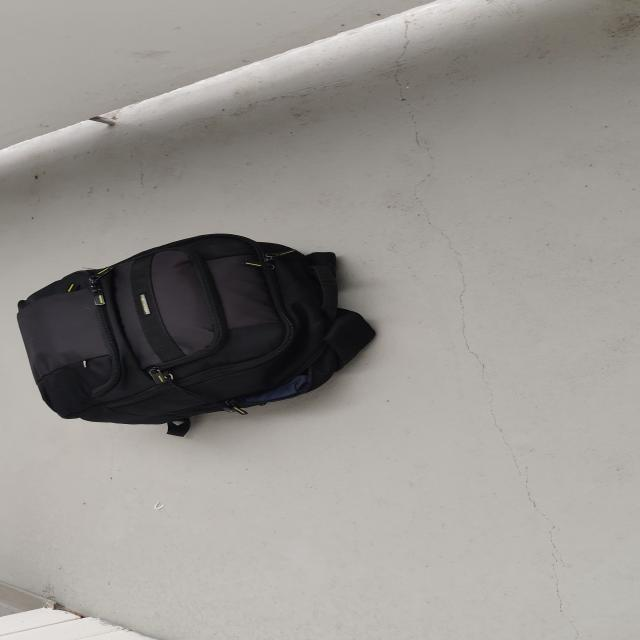backpack: (7, 228, 384, 432)
